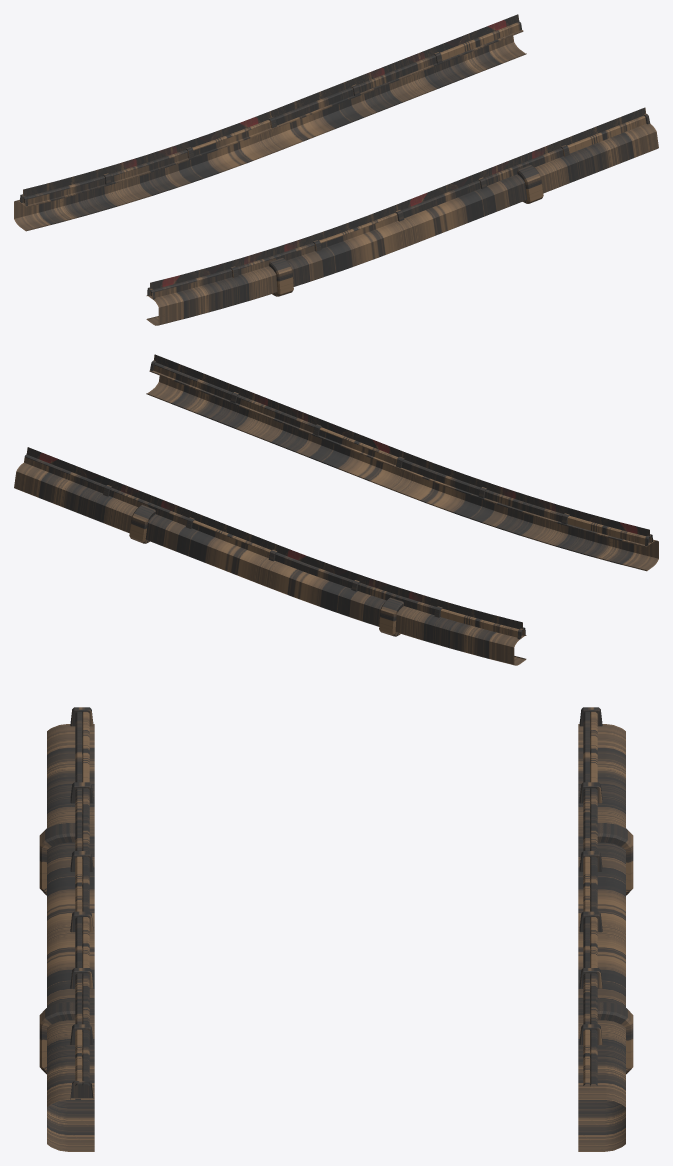
The model's file is Mur_M_8.fbx.
3 renders of one model, top to bottom at view 1: azimuth 30°, elevation 25°; view 2: azimuth 150°, elevation 25°; view 3: azimuth 270°, elevation 25°, orthographic. The views are drawn at different scales.
Visible parts, largest first — view 1: polySurface257; view 2: polySurface257; view 3: polySurface257.
Boxes of the visible parts, x1,y1,x2,y2 form: polySurface257: (14, 14, 658, 325); polySurface257: (14, 354, 658, 665); polySurface257: (39, 707, 633, 1151).
Bounding box in the file's own units: 29.95 × 5.38 × 15.38.
